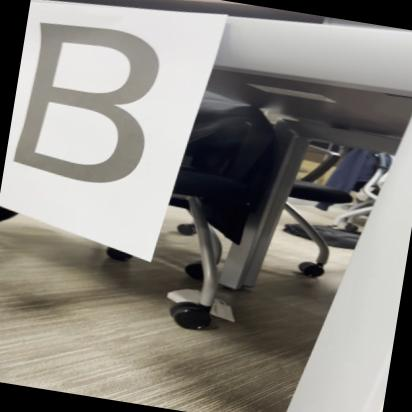seat: (8, 7, 159, 196)
